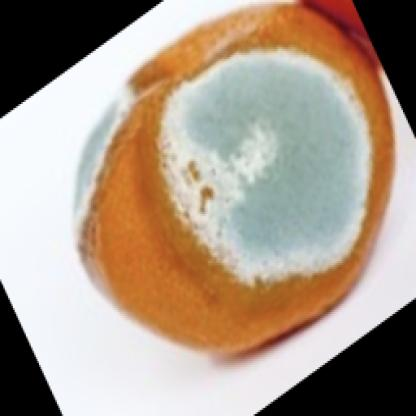rotten: (77, 3, 397, 355)
